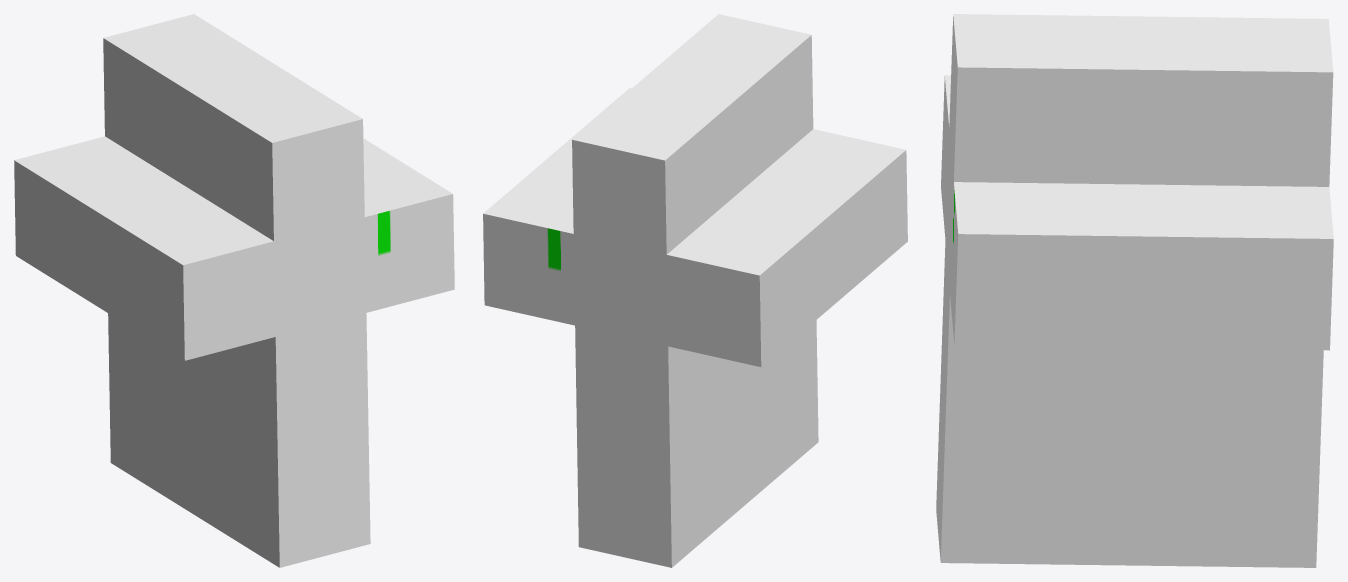
File: 3d cross.dae
3 views of the same model, side by side, from view 1: azimuth 30°, elevation 25°; view 2: azimuth 150°, elevation 25°; view 3: azimuth 270°, elevation 25° (orthographic). The views are drawn at different scales.
Visible parts, largest first — view 1: Rectangle_3; view 2: Rectangle_3; view 3: Rectangle_3.
Boxes of the visible parts, bbox=[...] form: Rectangle_3: bbox=[14, 14, 454, 567]; Rectangle_3: bbox=[483, 14, 907, 567]; Rectangle_3: bbox=[936, 14, 1333, 567].
Size of the model in its own units: 116 by 166 by 118.
Materials: 3 (3 with a texture image).
